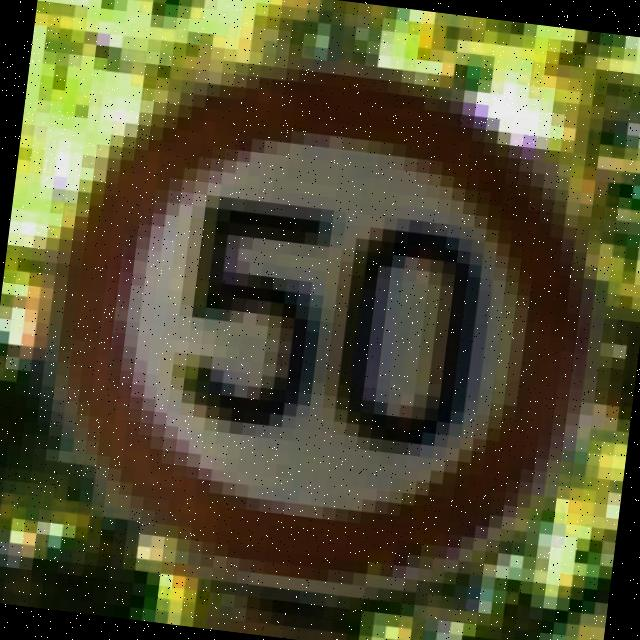Ograniczenie predkosci do 50: (38, 47, 602, 609)
